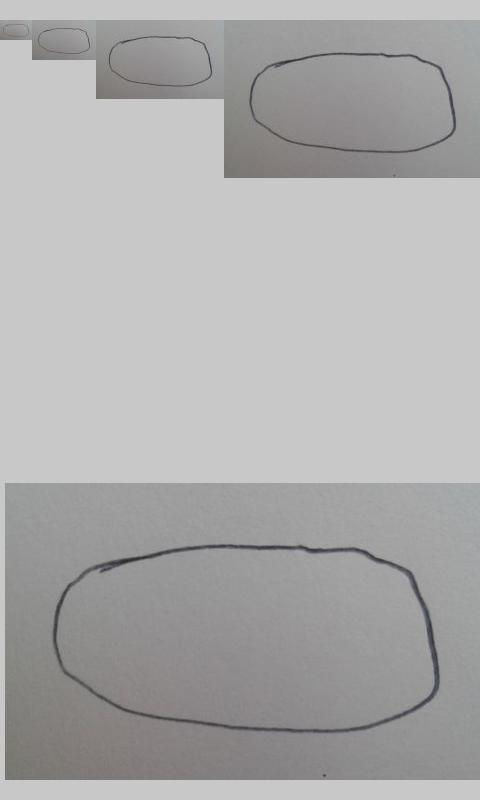chip: (53, 544, 442, 735), (249, 52, 457, 154), (108, 36, 213, 87), (37, 27, 91, 55), (2, 23, 30, 38)
